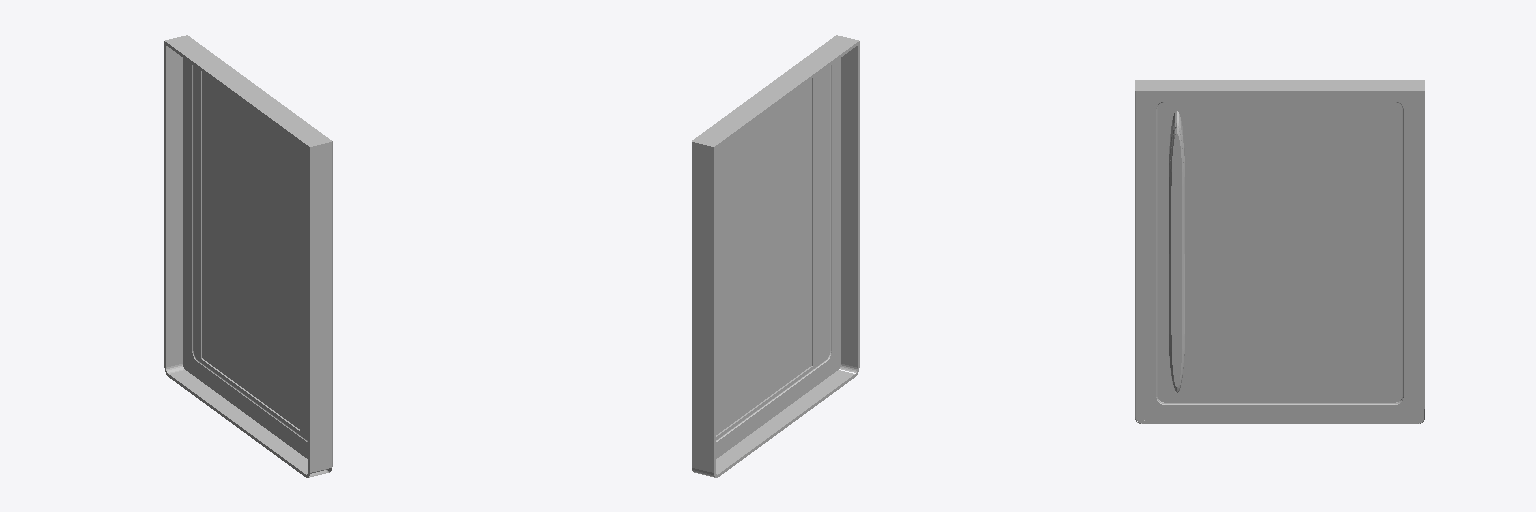
File: dof_rootd_Aa001_r.obj
3 views of the same model, side by side, from view 1: azimuth 30°, elevation 25°; view 2: azimuth 150°, elevation 25°; view 3: azimuth 270°, elevation 25° (orthographic).
Visible parts, largest first — view 1: rootd_Aa001_g74__Geometry_0, rootd_Aa001_g64__Geometry_0, rootd_Aa001_g76__Geometry_0, rootd_Aa001_g65__Geometry_0, rootd_Aa001_g67__Geometry_0; view 2: rootd_Aa001_g74__Geometry_0, rootd_Aa001_g64__Geometry_0, rootd_Aa001_g76__Geometry_0; view 3: rootd_Aa001_g70__Geometry_0, rootd_Aa001_g64__Geometry_0, rootd_Aa001_g71__Geometry_0, rootd_Aa001_g73__Geometry_0, rootd_Aa001_g72__Geometry_0, rootd_Aa001_g67__Geometry_0, rootd_Aa001_g17__Geometry_0, rootd_Aa001_g68__Geometry_0, rootd_Aa001_g69__Geometry_0.
Part boxes in pixels (x1,y1,x2,y2): rootd_Aa001_g74__Geometry_0: (202,72,299,428); rootd_Aa001_g64__Geometry_0: (164,35,332,477); rootd_Aa001_g76__Geometry_0: (204,144,307,439); rootd_Aa001_g65__Geometry_0: (194,66,306,439); rootd_Aa001_g67__Geometry_0: (198,69,299,430); rootd_Aa001_g74__Geometry_0: (716,79,811,434); rootd_Aa001_g64__Geometry_0: (692,35,859,477); rootd_Aa001_g76__Geometry_0: (718,66,829,435); rootd_Aa001_g70__Geometry_0: (1191,105,1387,398); rootd_Aa001_g64__Geometry_0: (1135,80,1424,423); rootd_Aa001_g71__Geometry_0: (1321,111,1380,392); rootd_Aa001_g73__Geometry_0: (1158,102,1223,402); rootd_Aa001_g72__Geometry_0: (1191,105,1374,394); rootd_Aa001_g67__Geometry_0: (1224,102,1401,402); rootd_Aa001_g17__Geometry_0: (1169,111,1184,392); rootd_Aa001_g68__Geometry_0: (1157,102,1403,403); rootd_Aa001_g69__Geometry_0: (1165,399,1394,402).
Size of the model in its own units: 0.0889 by 0.7492 by 0.5926.